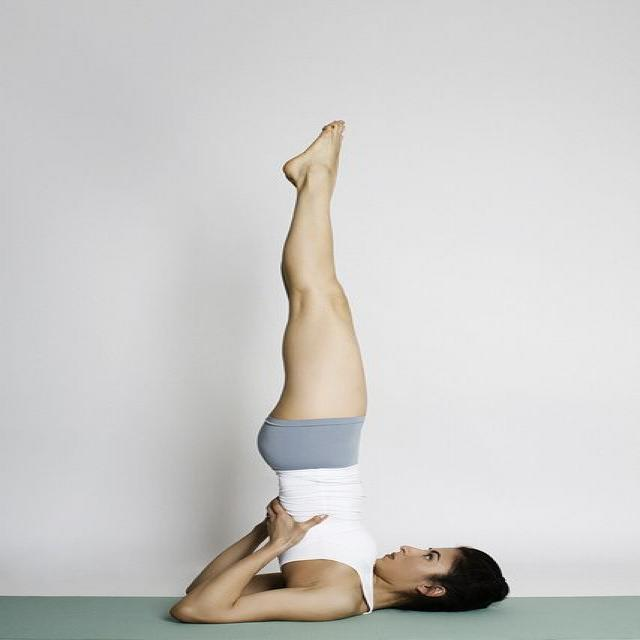yoga-pose shoulderstand: (169, 115, 508, 625)
